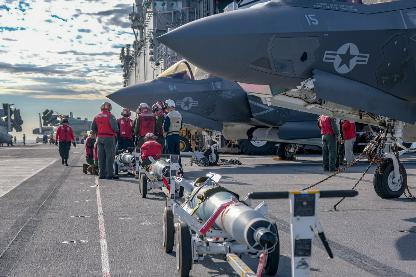F22: (155, 0, 415, 197), (105, 58, 385, 165)
Tornado: (38, 108, 92, 143), (0, 103, 22, 144)
